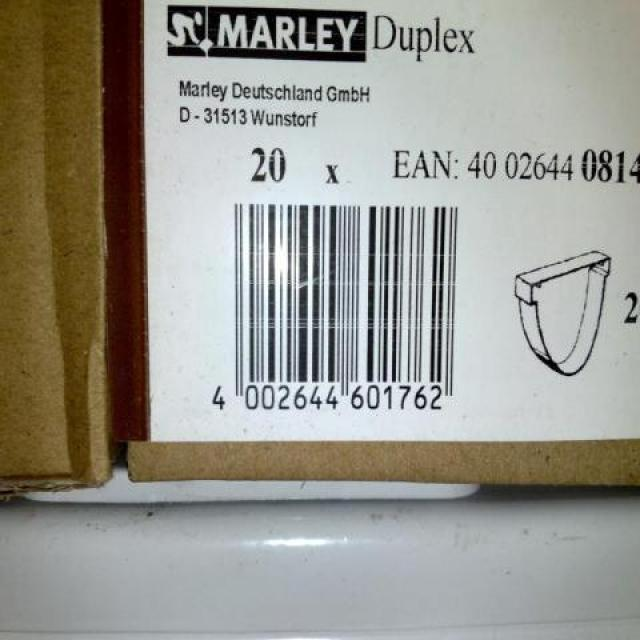Barcode: (202, 192, 482, 429)
